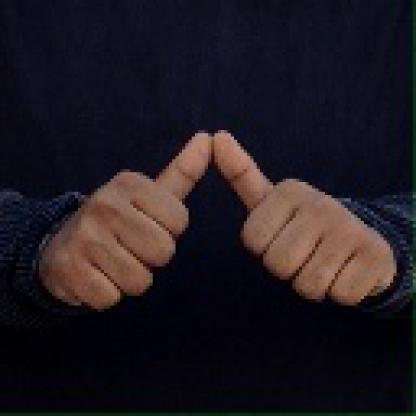A: (37, 122, 394, 312)
